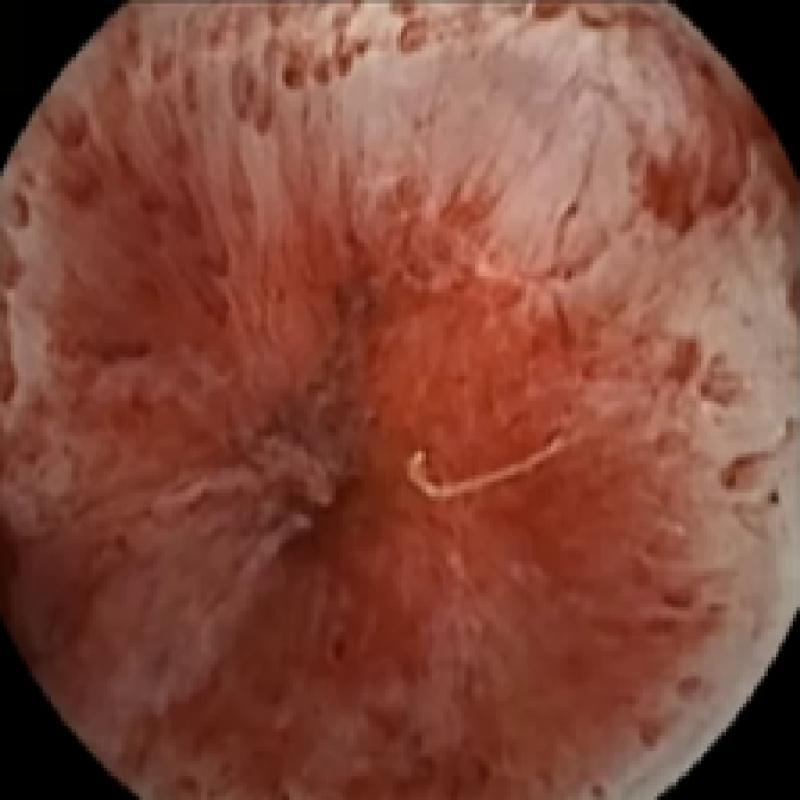bleeding: (0, 3, 778, 800)
